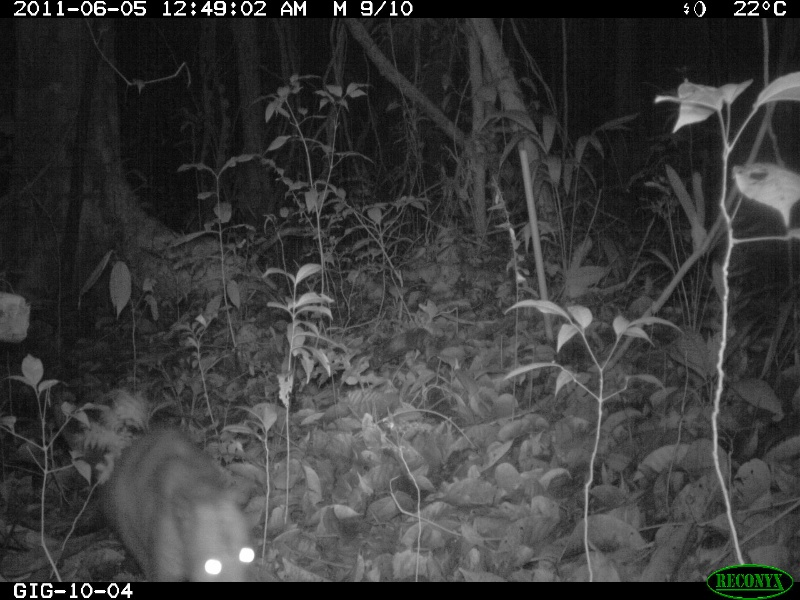opossum: (98, 416, 259, 581)
